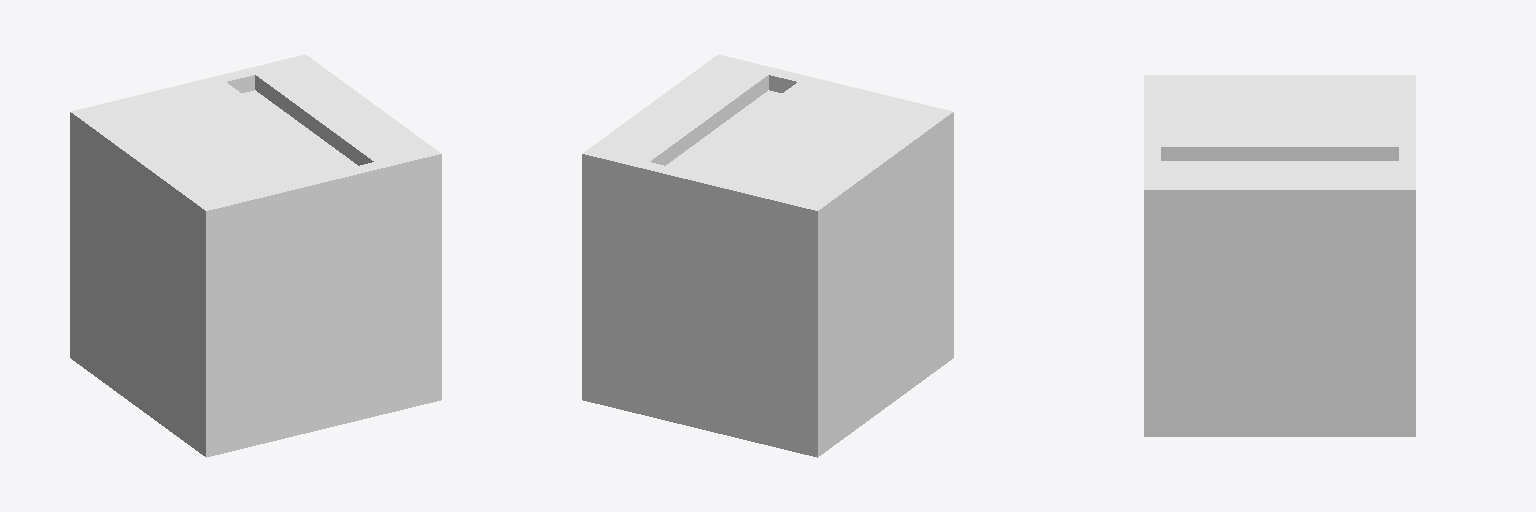
Rendered from StoneGenerator.obj.
3 views of the same model, side by side, from view 1: azimuth 30°, elevation 25°; view 2: azimuth 150°, elevation 25°; view 3: azimuth 270°, elevation 25° (orthographic).
Visible parts, largest first — view 1: object 1; view 2: object 1; view 3: object 1.
Boxes of the visible parts, box(x1,y1,x2,y2) form: object 1: box(70, 54, 441, 457); object 1: box(582, 54, 953, 457); object 1: box(1144, 75, 1415, 436).
Bounding box in the file's own units: 1.6 × 1.6 × 1.6.